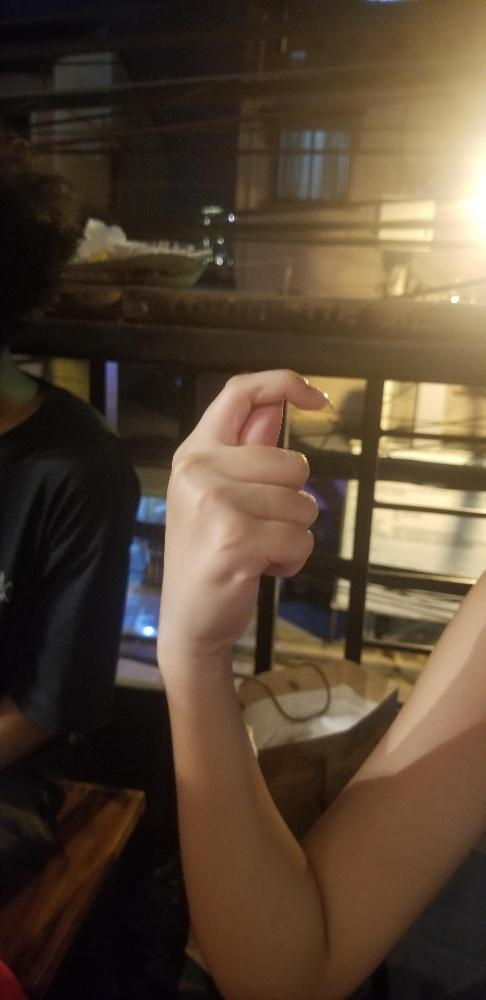t: (150, 365, 331, 656)
